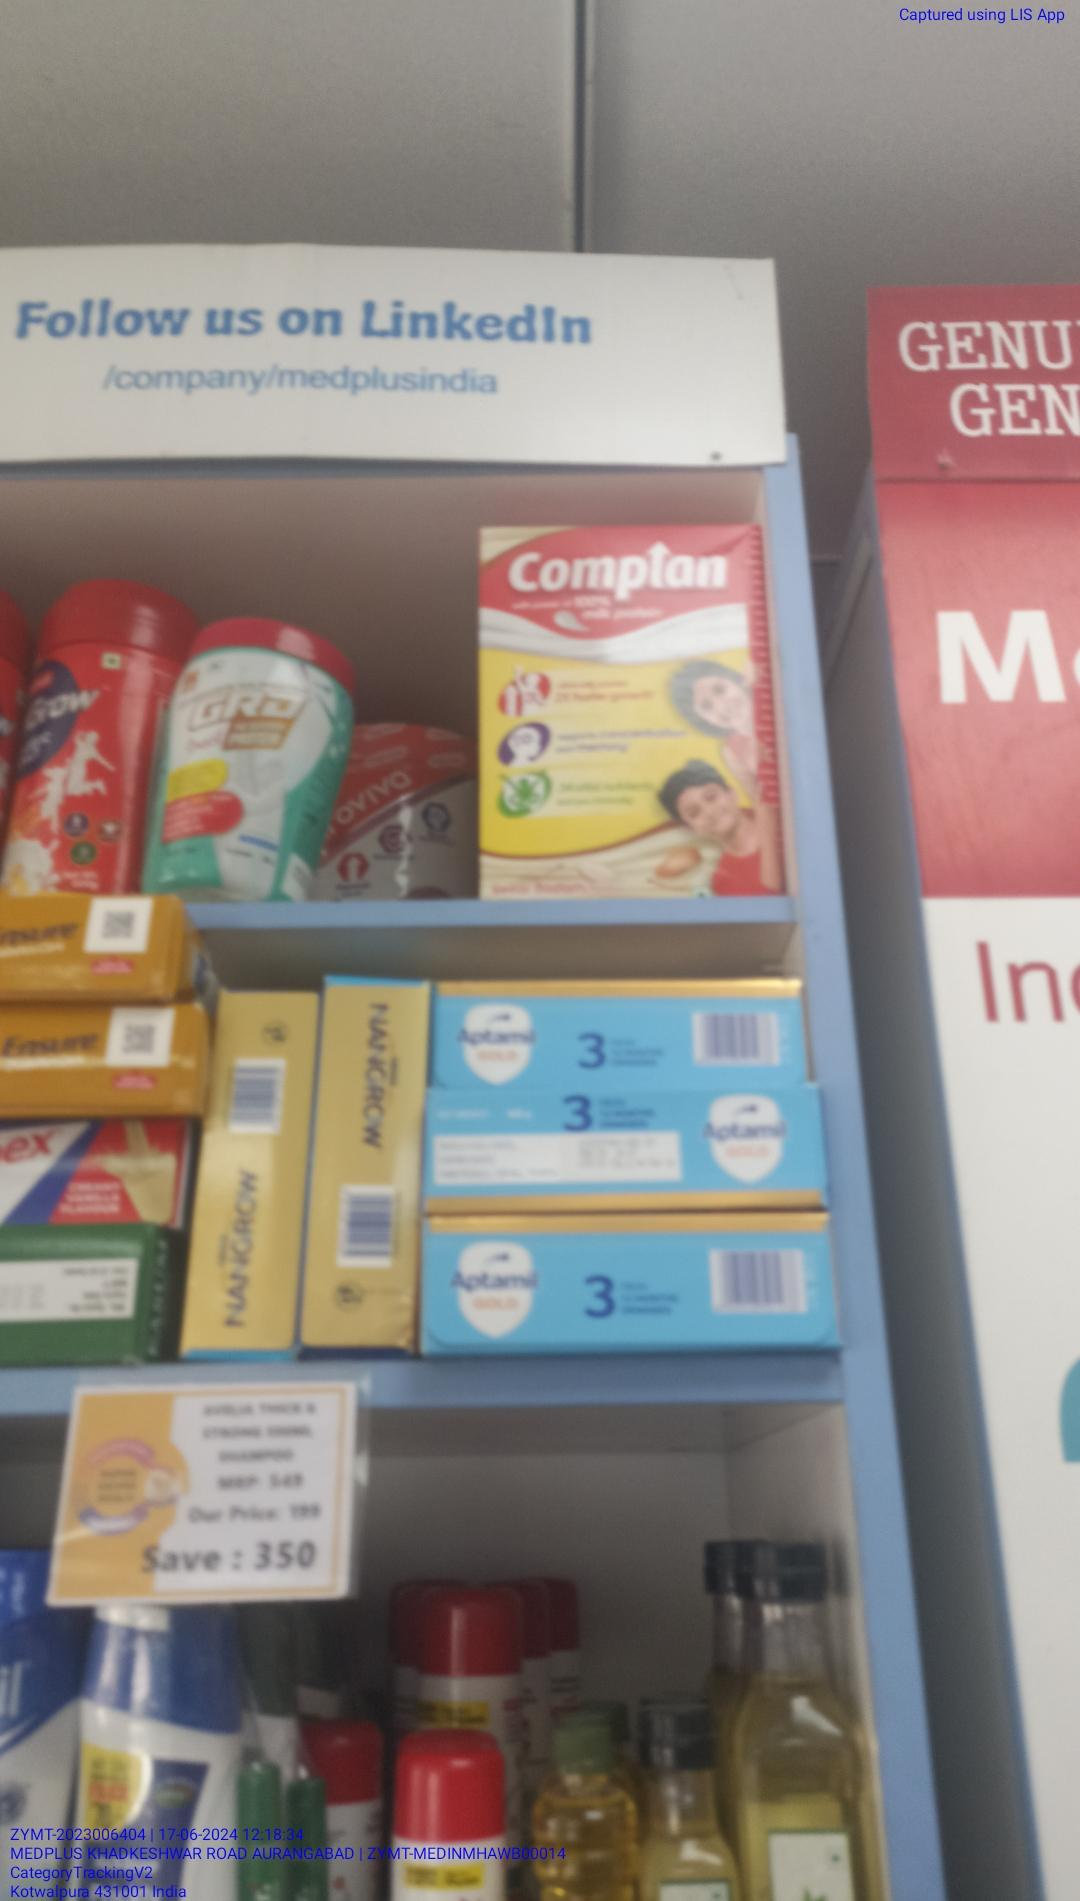COMPLAN_KESAR_BADAM_500_GMS_PACK: (481, 524, 777, 889)
